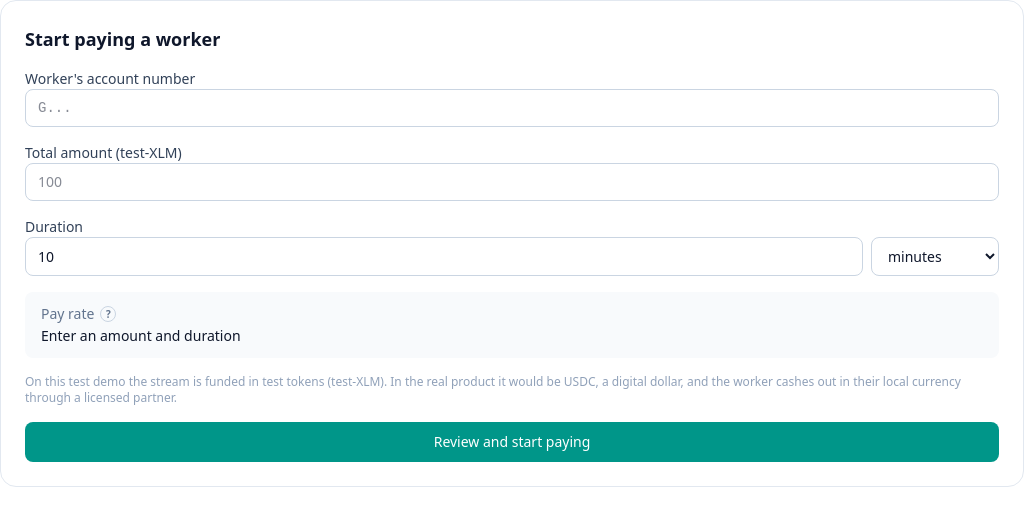
Test: CreateStreamForm › blocks a zero amount
Type "GCQGDN634N7LNECZNWXUYHW2OFWNCQRG2CJHLBE4M375CNMXBLL2WKZN" into the field labelled "Worker's account number". click: (512, 108)
box: [25,89,999,127]
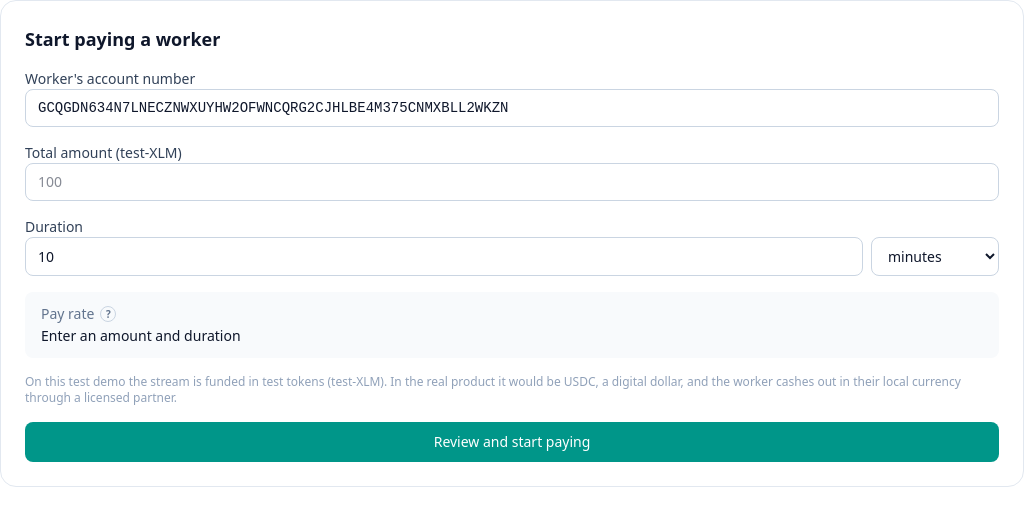
Type "0" into the field labelled "Total amount (test-XLM)". click: (512, 182)
box: [25,163,999,201]
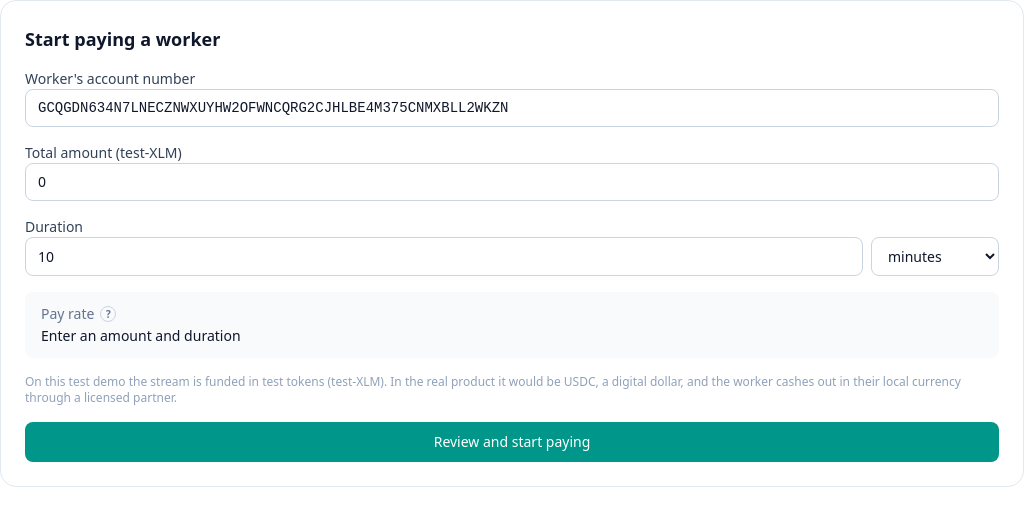
Click the button "Review and start paying". click: (512, 442)
box: [25,422,999,462]
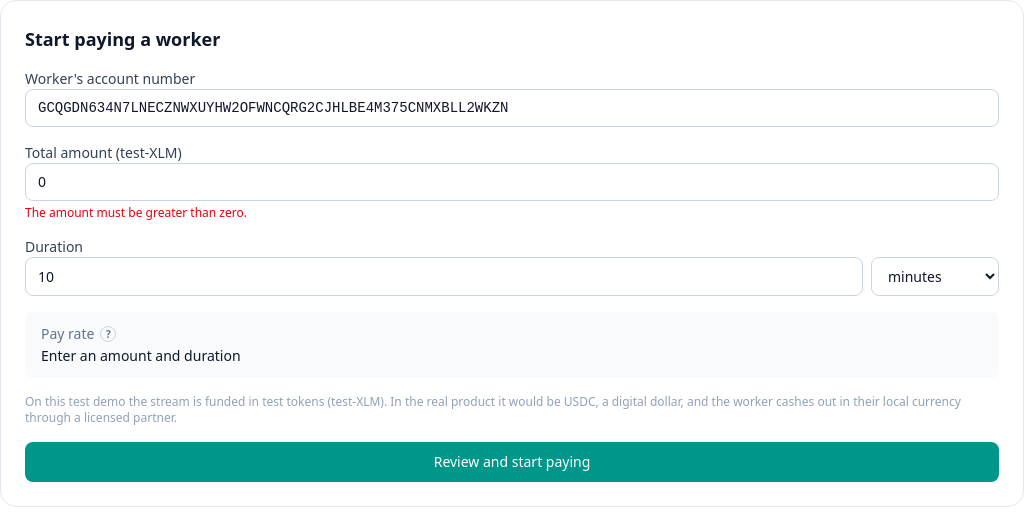
Now the text "The amount must be greater than zero." is shown, box [25,204,247,221]
